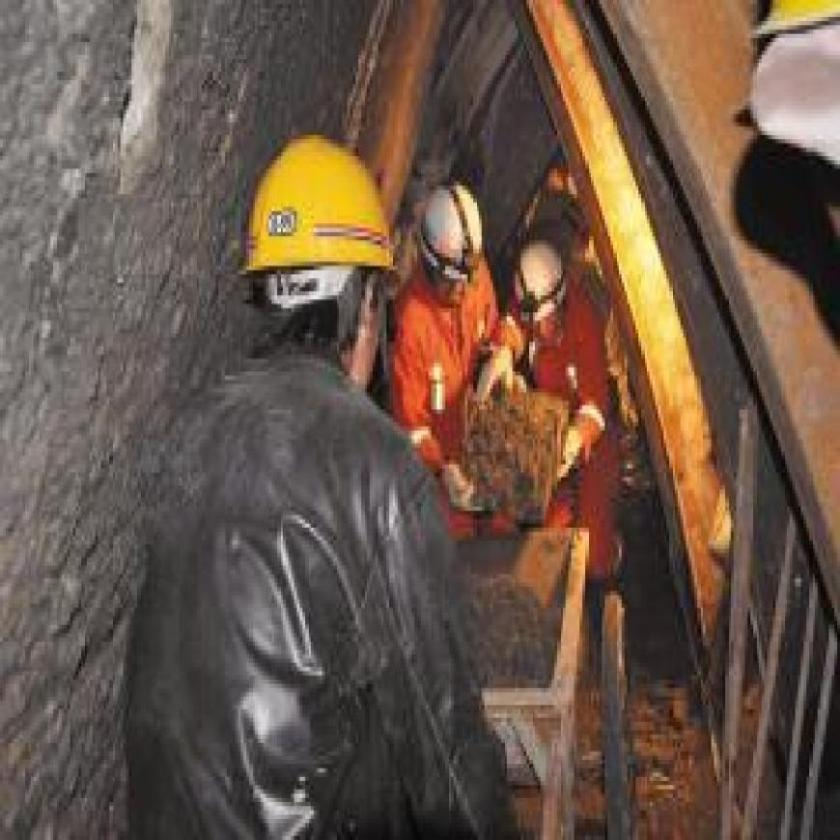Con_casco: (224, 86, 399, 389)
